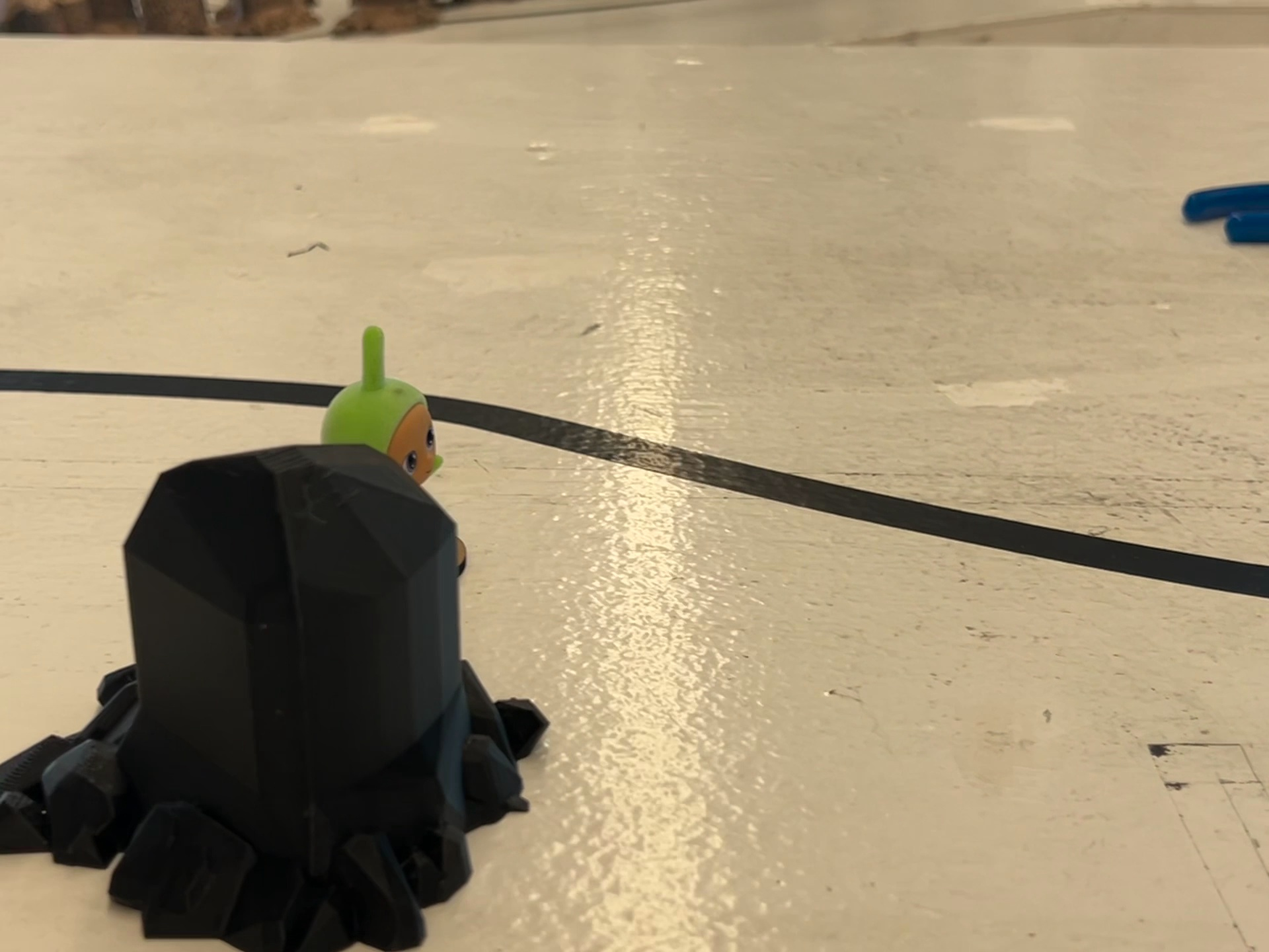teletubby: (321, 327, 443, 485)
